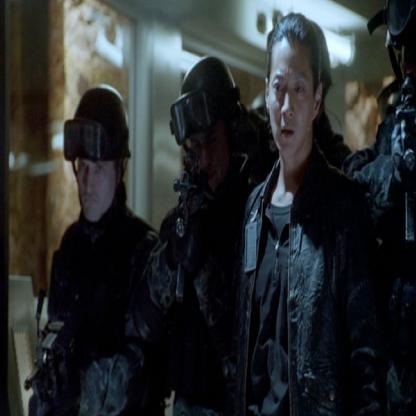Guns: (22, 282, 80, 415), (168, 150, 211, 311), (391, 67, 415, 250)
